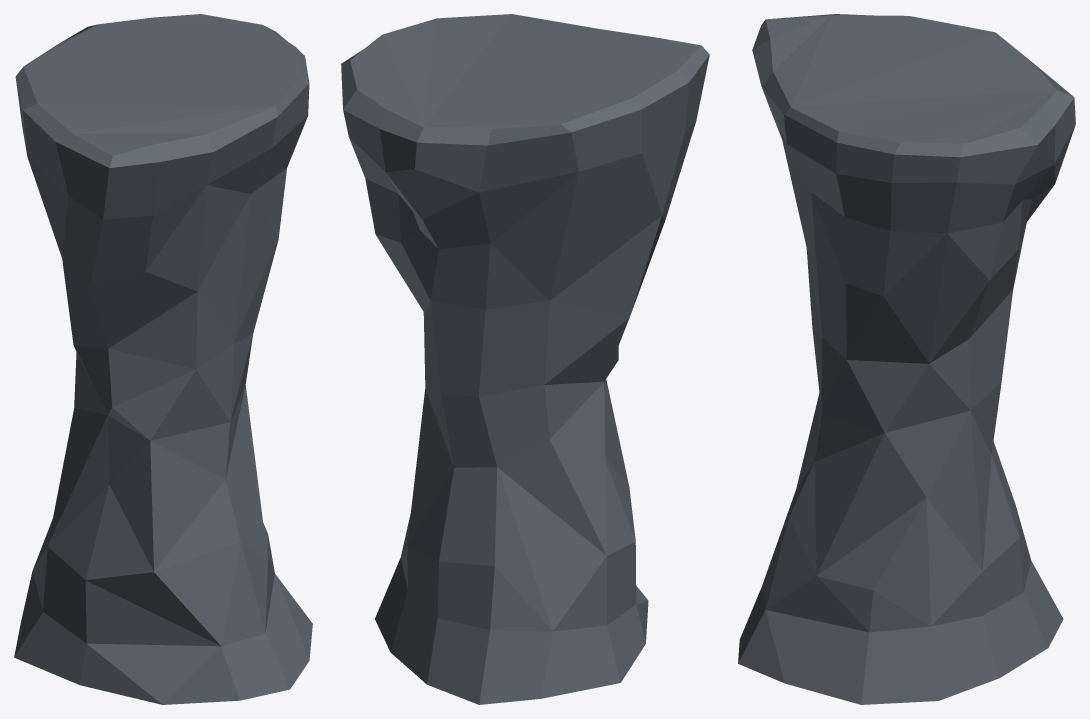
Rendered from Pillar-A13.fbx.
The picture shows the model from 3 angles, left to right: view 1: azimuth 30°, elevation 25°; view 2: azimuth 150°, elevation 25°; view 3: azimuth 270°, elevation 25°; orthographic projection.
Visible parts, largest first — view 1: Pillar-A13; view 2: Pillar-A13; view 3: Pillar-A13.
Boxes of the visible parts, x1=… form: Pillar-A13: x1=14, y1=14, x2=312, y2=704; Pillar-A13: x1=341, y1=14, x2=709, y2=704; Pillar-A13: x1=738, y1=14, x2=1075, y2=704.
Bounding box in the file's own units: 208 × 214 × 397.
